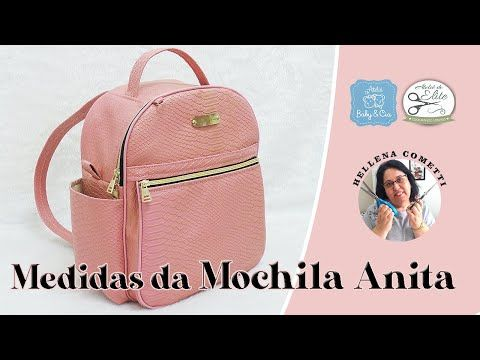cuero: (32, 48, 266, 308)
